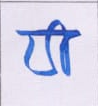i_matra: (52, 19, 74, 76)
